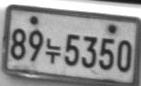0: (116, 39, 132, 73)
3: (81, 35, 97, 69)
5: (63, 33, 80, 66), (98, 37, 115, 70)
8: (10, 28, 26, 61)
9: (27, 28, 43, 62)
누: (45, 37, 61, 63)
